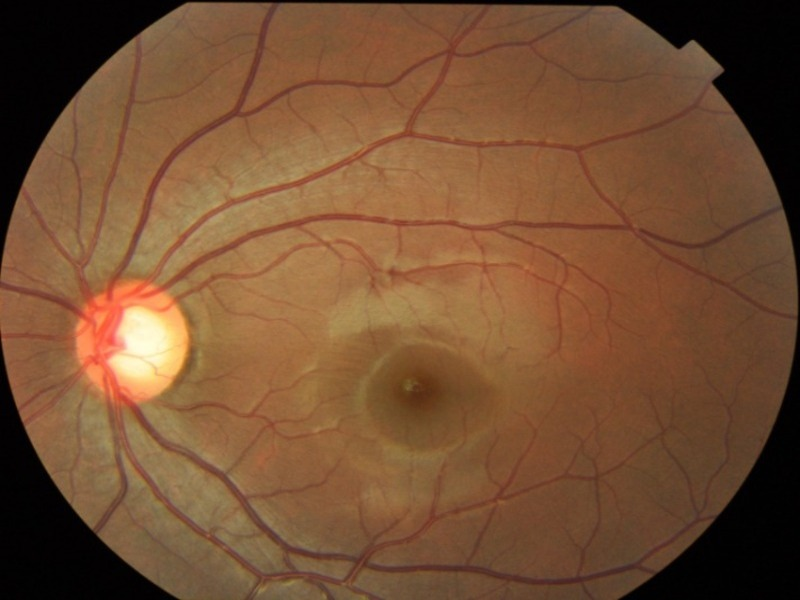Optic Cup: (119, 309, 170, 376)
Optic Disc: (73, 278, 191, 404)
